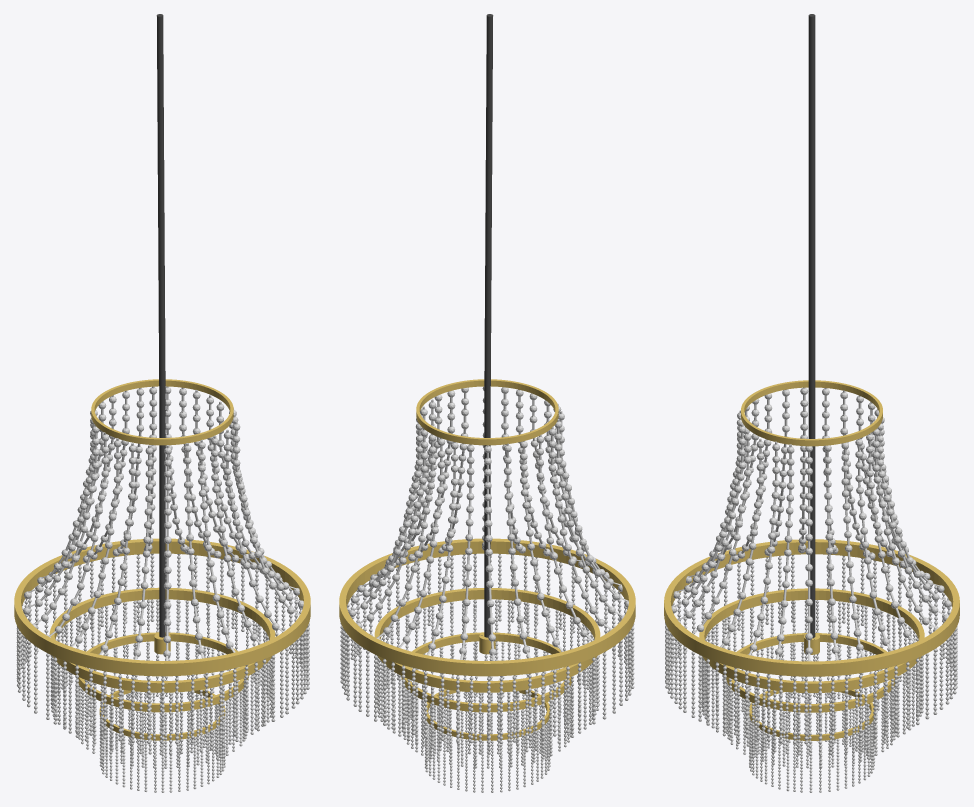
File: chandelier.fbx
3 views of the same model, side by side, from view 1: azimuth 30°, elevation 25°; view 2: azimuth 150°, elevation 25°; view 3: azimuth 270°, elevation 25° (orthographic).
Parts seen in each view (by area): view 1: Cylinder; view 2: Cylinder; view 3: Cylinder.
Part boxes in pixels (bbox=[...]): Cylinder: bbox=[14, 14, 310, 792]; Cylinder: bbox=[339, 14, 635, 792]; Cylinder: bbox=[664, 14, 959, 792].
Bounding box in the file's own units: 200 × 560 × 200.
